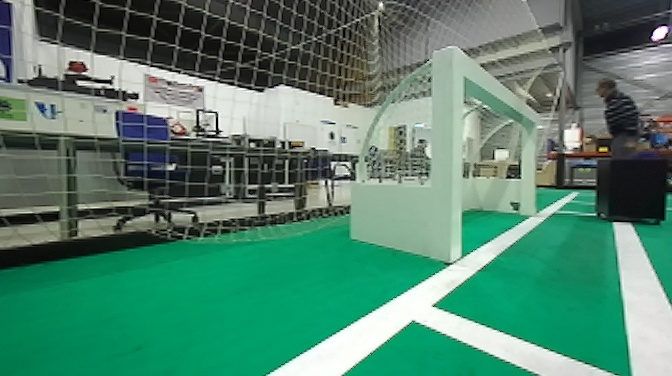goalpost: (423, 42, 468, 263), (516, 106, 546, 225)
human: (588, 78, 652, 163)
